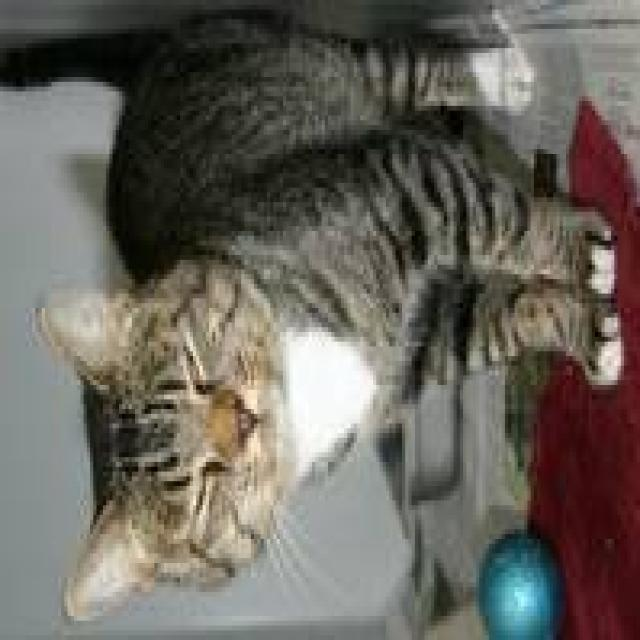cat: (28, 9, 626, 631)
